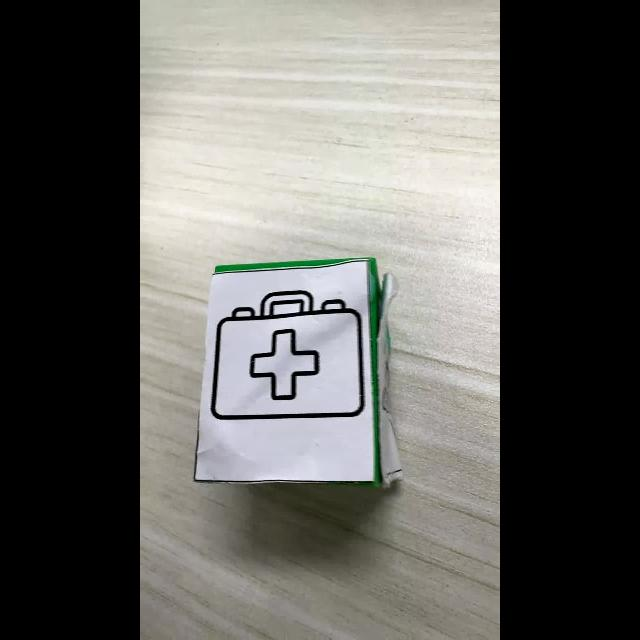Medkit: (211, 291, 364, 421)
